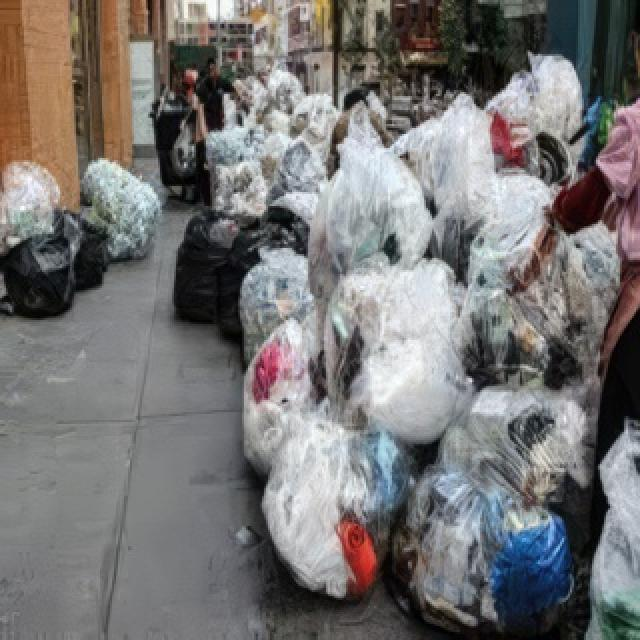Trashbag: (230, 218, 334, 270), (175, 204, 223, 314), (0, 232, 61, 313), (78, 214, 121, 285)
